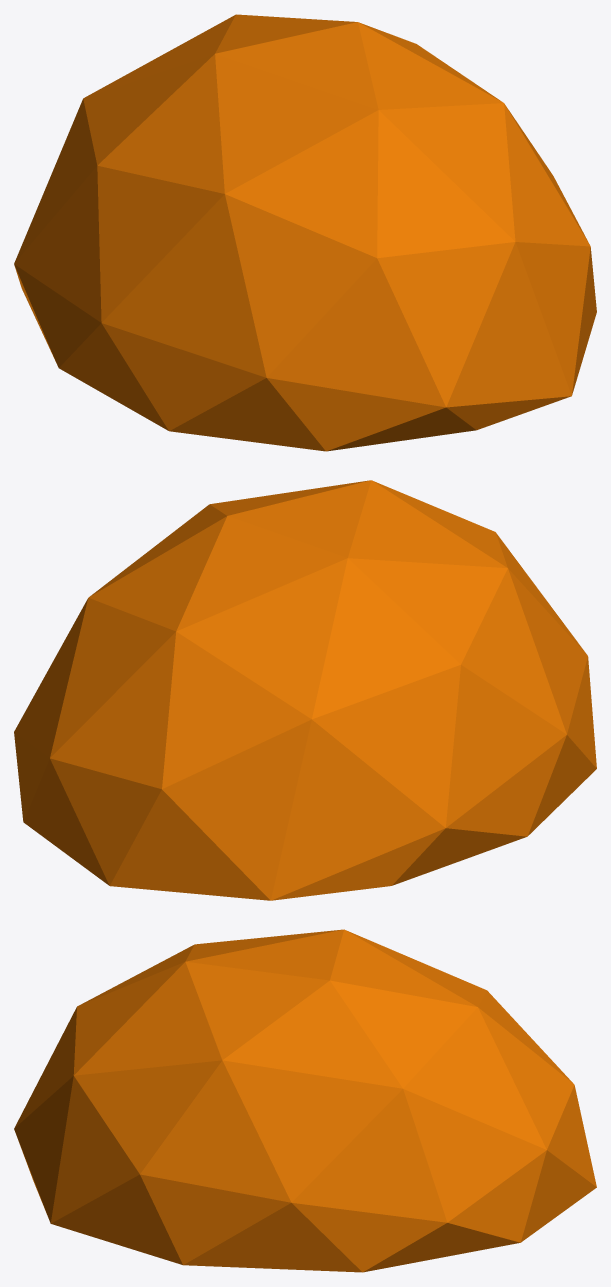
The model's file is roccia.glb.
3 views of the same model, one above another, from view 1: azimuth 30°, elevation 25°; view 2: azimuth 150°, elevation 25°; view 3: azimuth 270°, elevation 25° (orthographic). The views are drawn at different scales.
Visible parts, largest first — view 1: Icosphere; view 2: Icosphere; view 3: Icosphere.
Boxes of the visible parts, x1,y1,x2,y2 form: Icosphere: [14, 14, 596, 451]; Icosphere: [14, 480, 596, 900]; Icosphere: [14, 929, 596, 1272].
Size of the model in its own units: 14.92 by 7.94 by 18.64.
